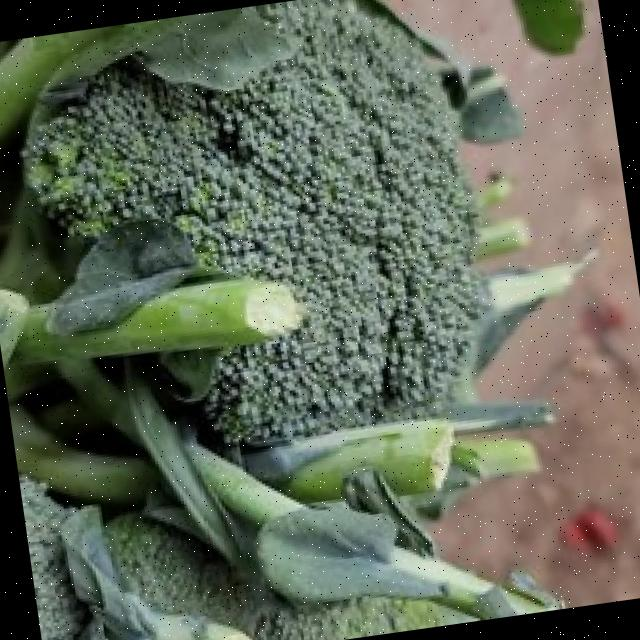Broccoli: (24, 0, 482, 440), (25, 0, 482, 440)
